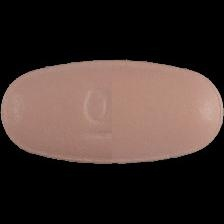0615-5620: (0, 0, 224, 224)
